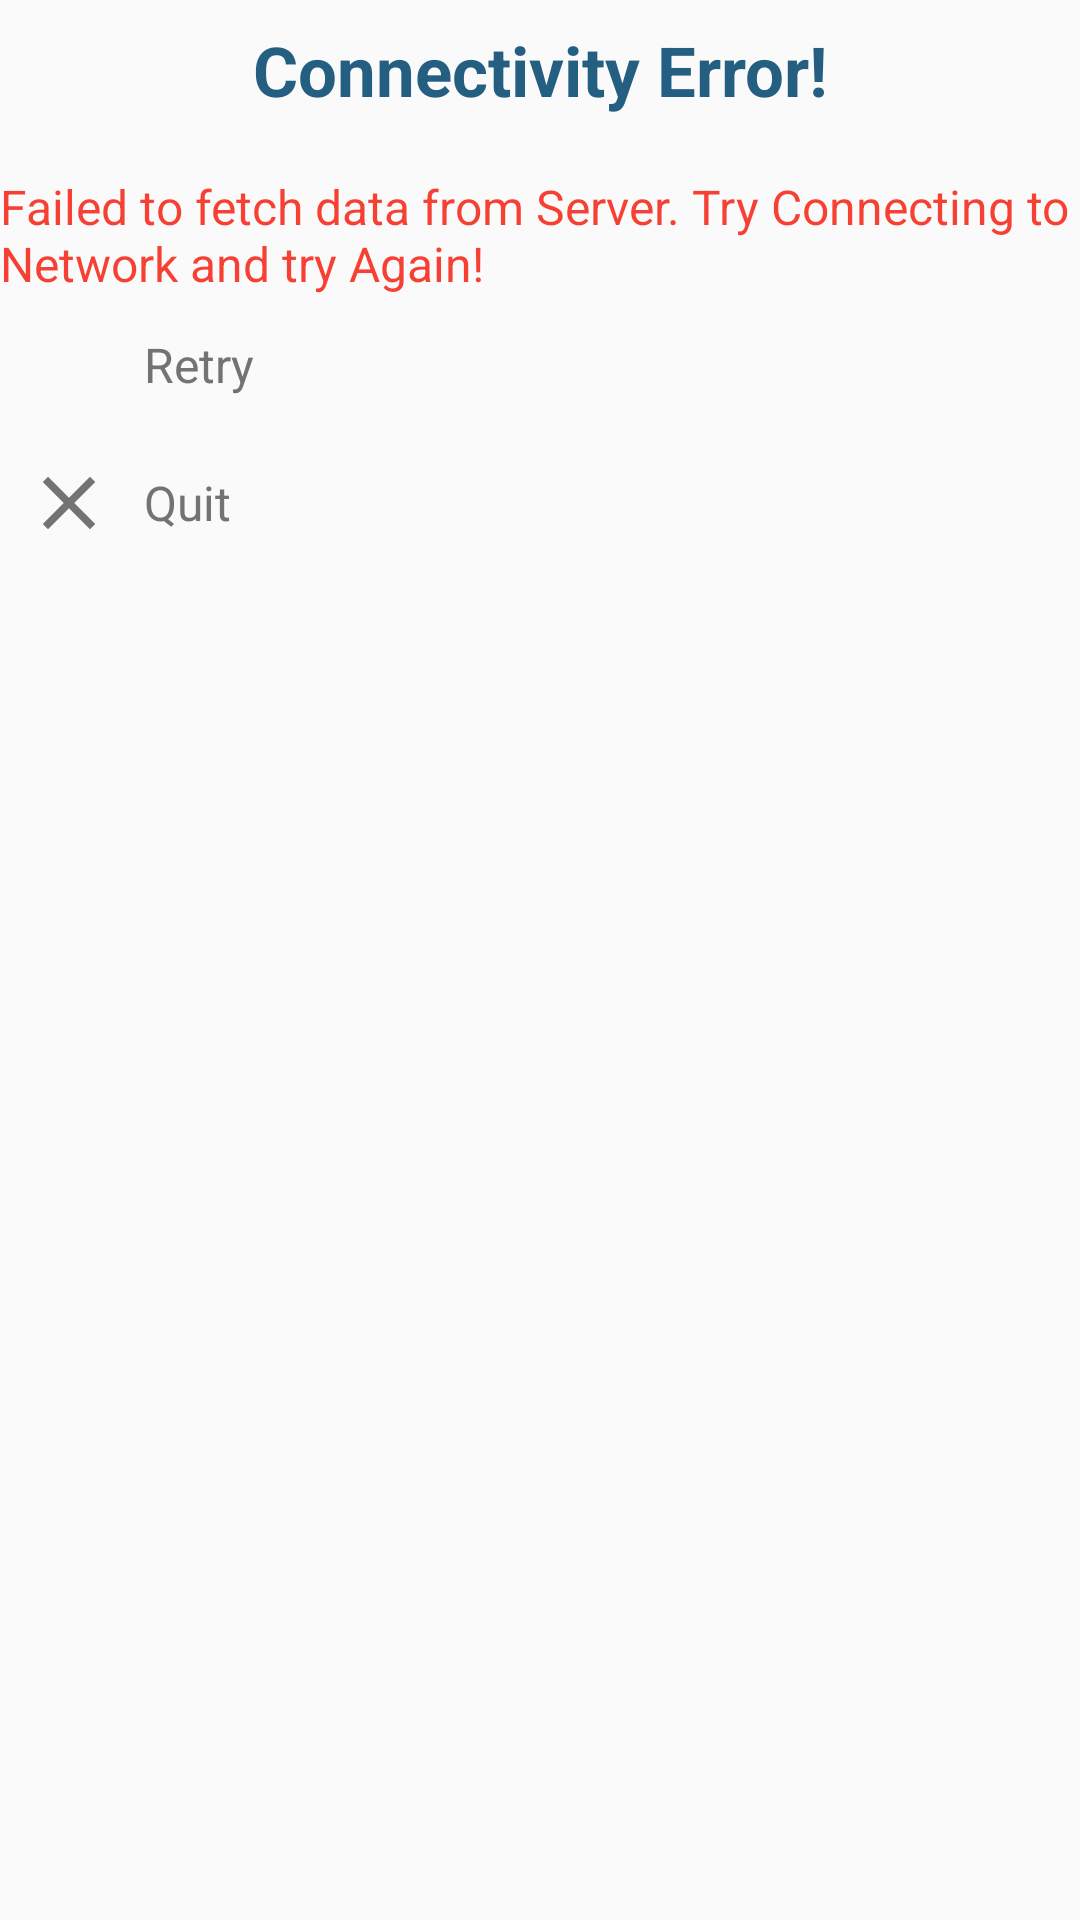

Screen size 1080w x 1920h. Icon name, then its center in pixels as [x,y]:
close: [69,503]
